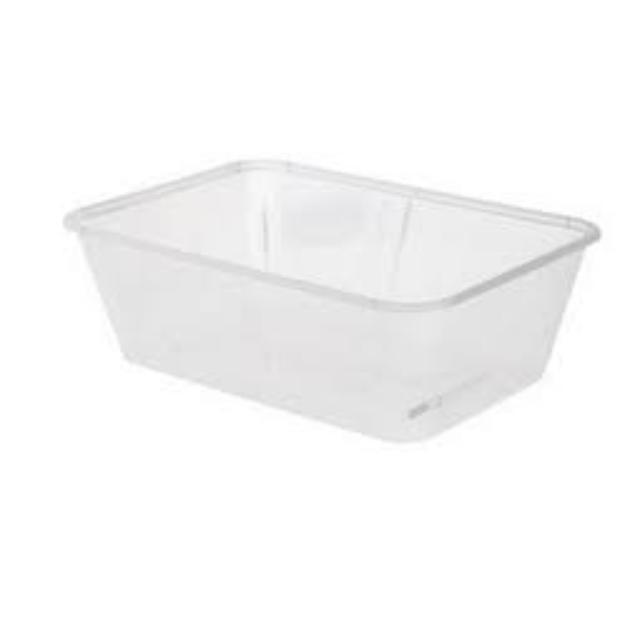Recipiente plastico: (66, 160, 599, 439)
